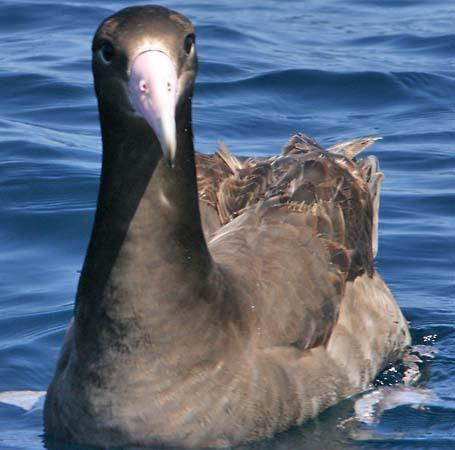001.Black_footed_Albatross: (43, 5, 416, 448)
